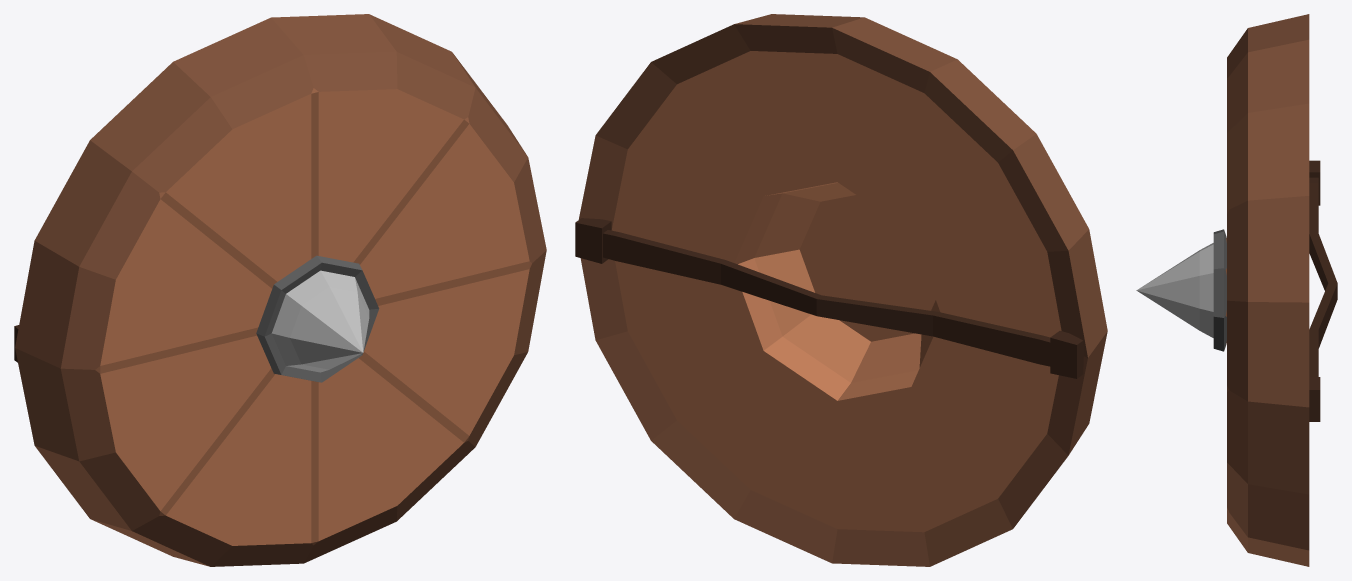
Rendered from wooden_buckler.glb.
The picture shows the model from 3 angles, left to right: view 1: azimuth 30°, elevation 25°; view 2: azimuth 150°, elevation 25°; view 3: azimuth 270°, elevation 25°; orthographic projection. The views are drawn at different scales.
Parts seen in each view (by area): view 1: Plane; view 2: Plane; view 3: Plane.
Part boxes in pixels (x1=…): Plane: x1=14, y1=14, x2=546, y2=566; Plane: x1=575, y1=14, x2=1107, y2=566; Plane: x1=1136, y1=14, x2=1337, y2=566.
Bounding box in the file's own units: 1.18 × 1.18 × 0.4289.
Materials: 1 (1 with a texture image).
